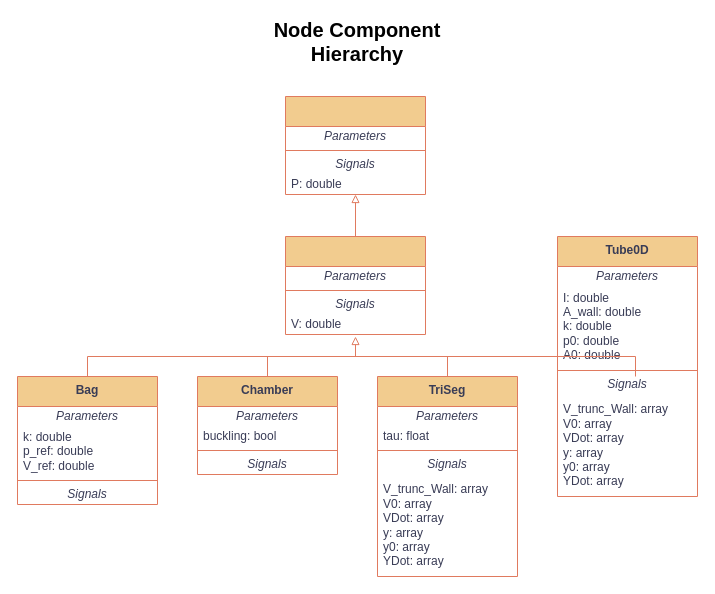
Image size: 715x594. Some labels were removed from this diagram. The box of each missing label's shape, as (x1, y1, x2, y2) in pixels:
Cavity: (284, 236, 426, 334)
Node: (284, 96, 426, 194)
